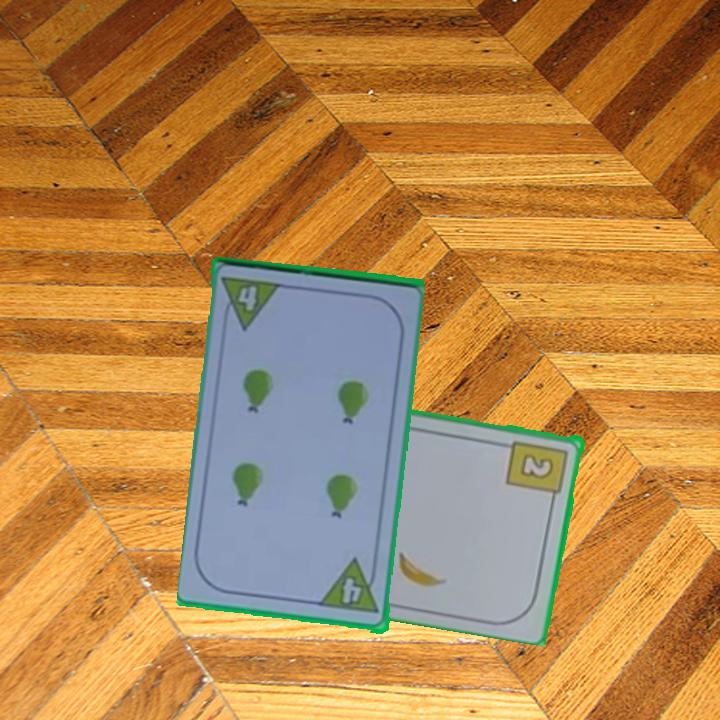2b: (504, 436, 571, 505)
4p: (218, 273, 284, 334), (317, 557, 382, 618)
